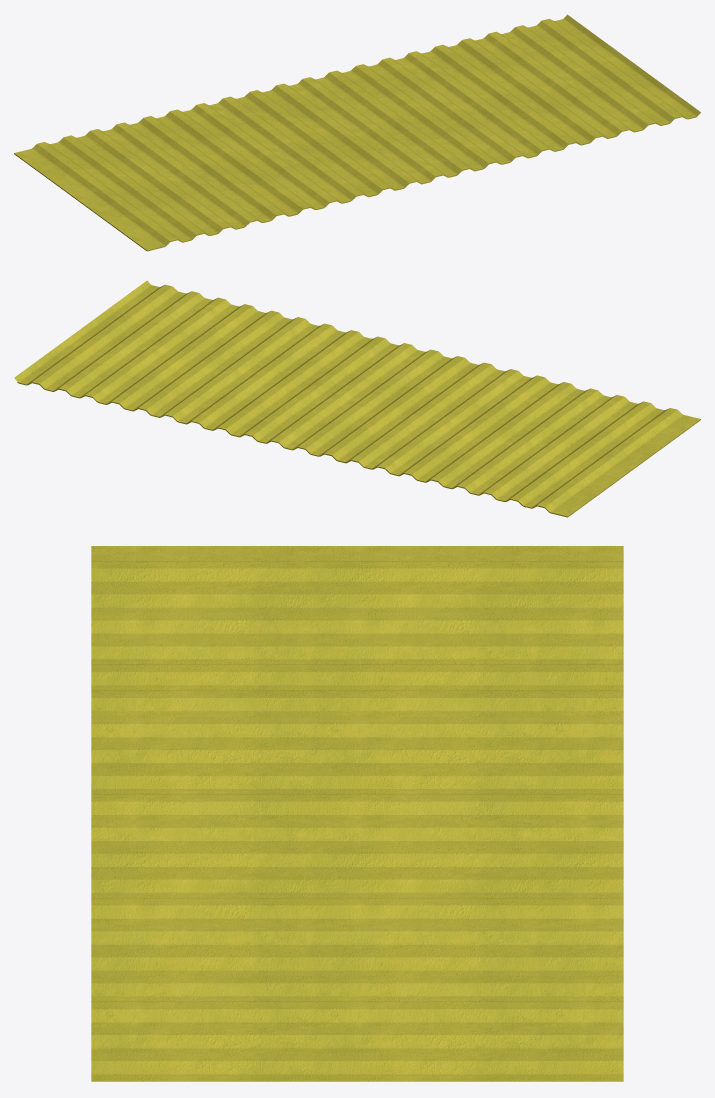
Rendered from ceiling-sprayfoam.glb.
The picture shows the model from 3 angles, top to bottom: view 1: azimuth 30°, elevation 25°; view 2: azimuth 150°, elevation 25°; view 3: azimuth 270°, elevation 25°; orthographic projection. The views are drawn at different scales.
Visible parts, largest first — view 1: 20FT Sprayfoam_Ceiling; view 2: 20FT Sprayfoam_Ceiling; view 3: 20FT Sprayfoam_Ceiling.
Part boxes in pixels (x1,y1,x2,y2): 20FT Sprayfoam_Ceiling: (14, 14, 700, 251); 20FT Sprayfoam_Ceiling: (14, 280, 700, 517); 20FT Sprayfoam_Ceiling: (91, 546, 623, 1081).
Size of the model in its own units: 5.69 by 0.0465 by 2.37.
1 material, 1 textured.
